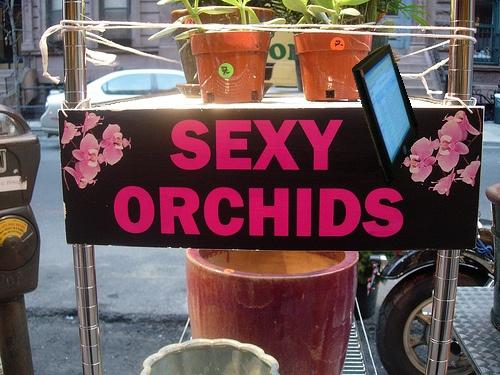tampered: (353, 45, 418, 186)
